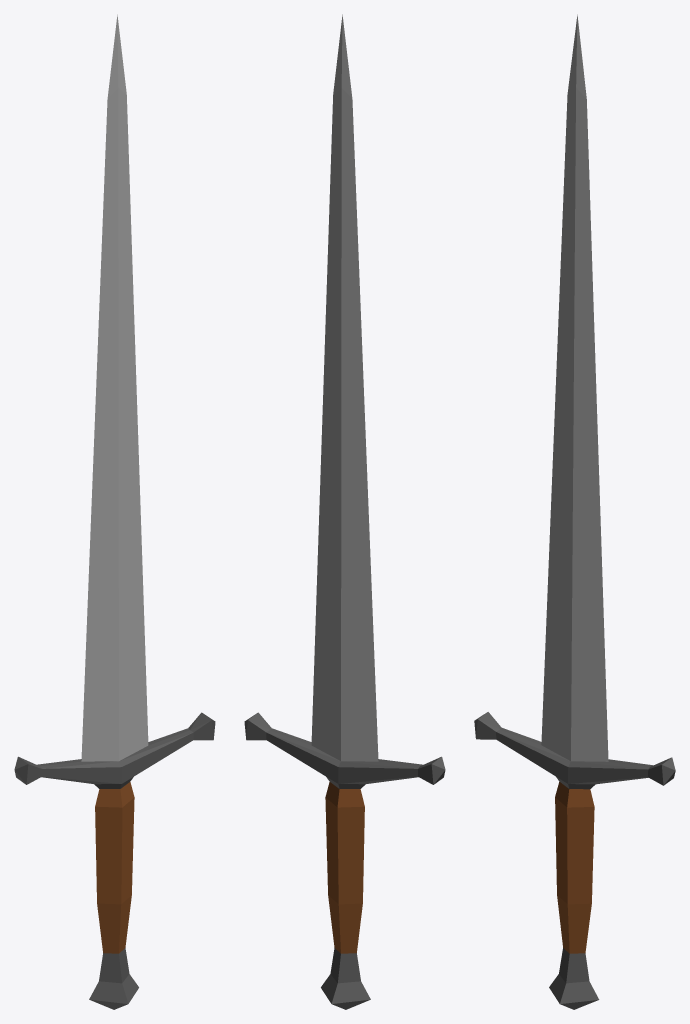
Rendered from Low Poly Weapon Pack - by Kickin It Studios.fbx_Arming_Sword.glb.
3 renders of one model, left to right at view 1: azimuth 30°, elevation 25°; view 2: azimuth 150°, elevation 25°; view 3: azimuth 330°, elevation 25°, orthographic.
Parts seen in each view (by area): view 1: Arming Sword; view 2: Arming Sword; view 3: Arming Sword.
Boxes of the visible parts, x1=… form: Arming Sword: x1=14, y1=14, x2=215, y2=1009; Arming Sword: x1=244, y1=14, x2=445, y2=1009; Arming Sword: x1=474, y1=14, x2=675, y2=1009.
Bounding box in the file's own units: 0.2594 × 1.23 × 0.064.
